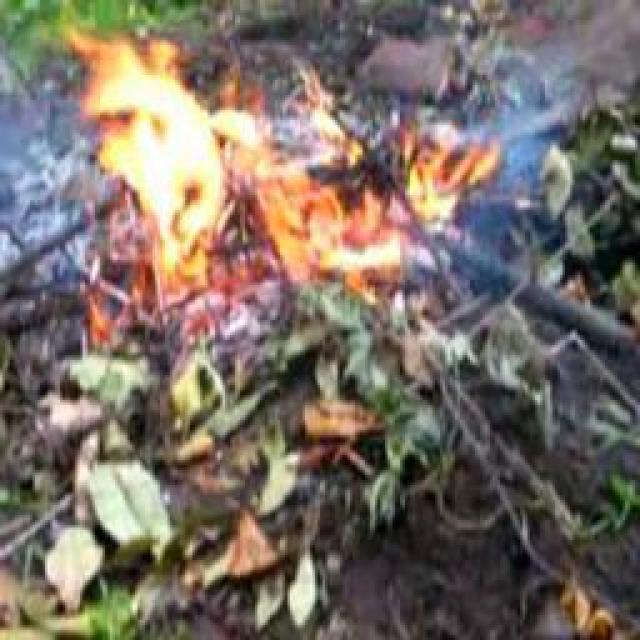Fire: (75, 39, 322, 298), (216, 113, 487, 289)
